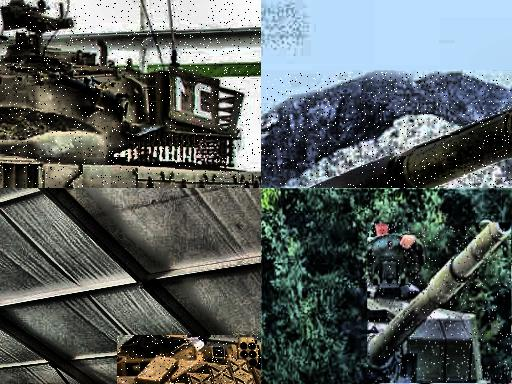tanks: (1, 1, 262, 189), (368, 224, 512, 383), (318, 110, 512, 189), (118, 336, 262, 384)
